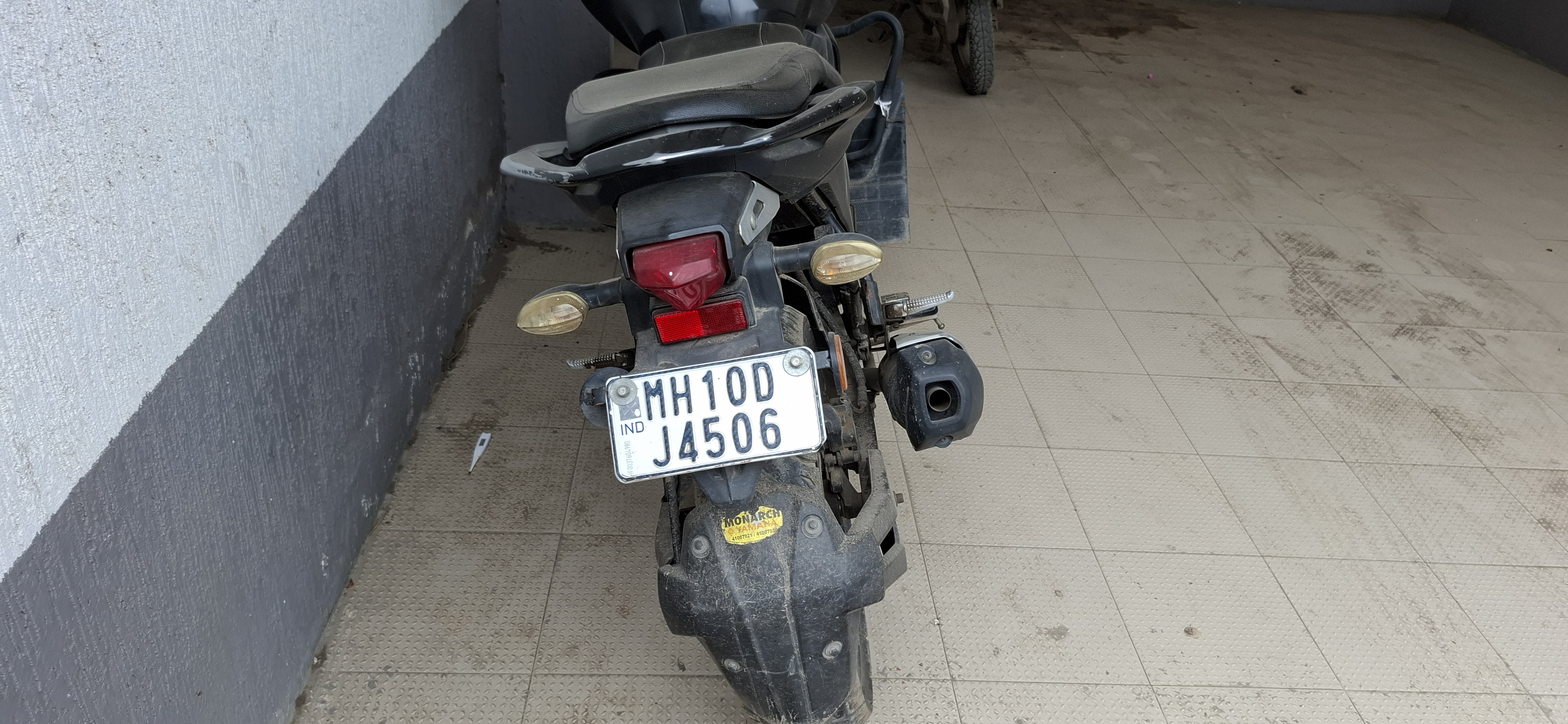license_plate: (506, 11, 986, 715)
